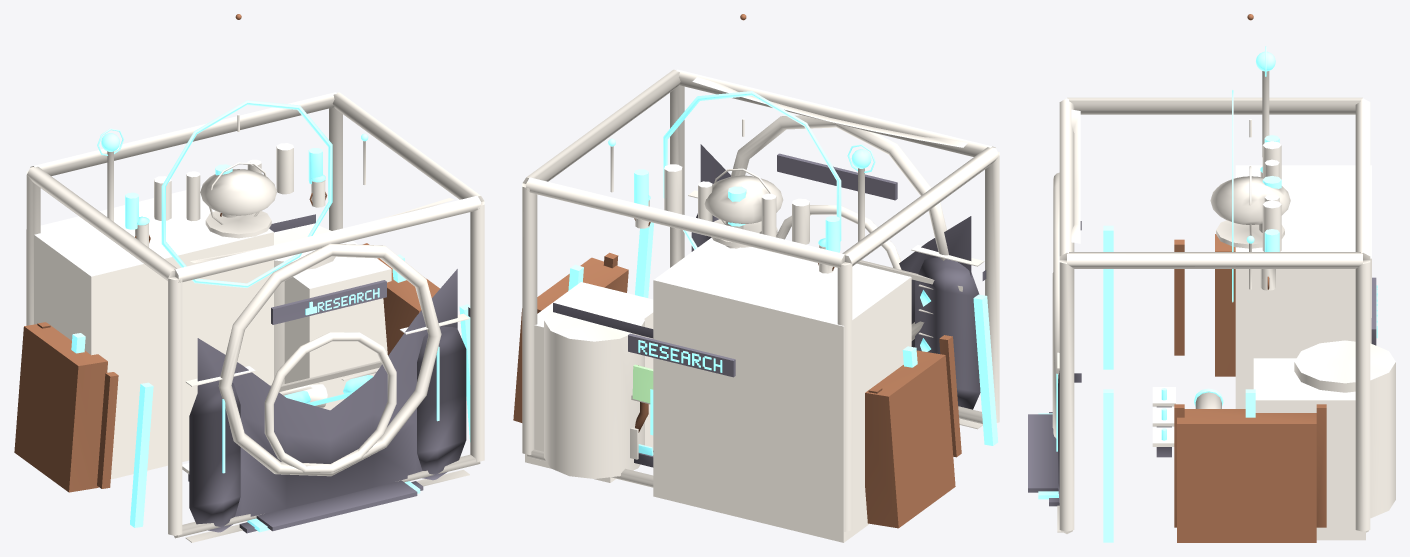
The model's file is research-lab.glb.
3 views of the same model, side by side, from view 1: azimuth 30°, elevation 25°; view 2: azimuth 150°, elevation 25°; view 3: azimuth 270°, elevation 25° (orthographic). The views are drawn at different scales.
Parts seen in each view (by area): view 1: research-lab:near:surface:0, research-lab:far:surface:0, research-lab:near:surface:1, research-lab:near:surface:3, research-lab:near:surface:2, research-lab:city-identity:reactor-core; view 2: research-lab:far:surface:0, research-lab:near:surface:0, research-lab:near:surface:3, research-lab:city-identity:reactor-core, research-lab:near:surface:1, research-lab:near:surface:2, research-lab:near:surface:4; view 3: research-lab:near:surface:0, research-lab:far:surface:0, research-lab:near:surface:3, research-lab:city-identity:reactor-core, research-lab:near:surface:2, research-lab:near:surface:1.
Boxes of the visible parts, x1,y1,x2,y2 form: research-lab:near:surface:0: [26, 92, 484, 542]; research-lab:far:surface:0: [26, 186, 391, 479]; research-lab:near:surface:1: [188, 214, 470, 533]; research-lab:near:surface:3: [14, 14, 439, 492]; research-lab:near:surface:2: [71, 100, 470, 532]; research-lab:city-identity:reactor-core: [272, 223, 335, 384]; research-lab:far:surface:0: [525, 237, 911, 542]; research-lab:near:surface:0: [522, 69, 999, 531]; research-lab:near:surface:3: [513, 14, 961, 528]; research-lab:city-identity:reactor-core: [544, 299, 644, 478]; research-lab:near:surface:1: [553, 144, 986, 467]; research-lab:near:surface:2: [568, 91, 998, 455]; research-lab:near:surface:4: [632, 364, 653, 403]; research-lab:near:surface:0: [1052, 71, 1370, 533]; research-lab:far:surface:0: [1235, 165, 1371, 540]; research-lab:near:surface:3: [1174, 14, 1326, 542]; research-lab:city-identity:reactor-core: [1294, 340, 1395, 518]; research-lab:near:surface:2: [1038, 46, 1377, 542]; research-lab:near:surface:1: [1028, 221, 1376, 506].
Size of the model in its own units: 21.48 by 23.73 by 17.39.
